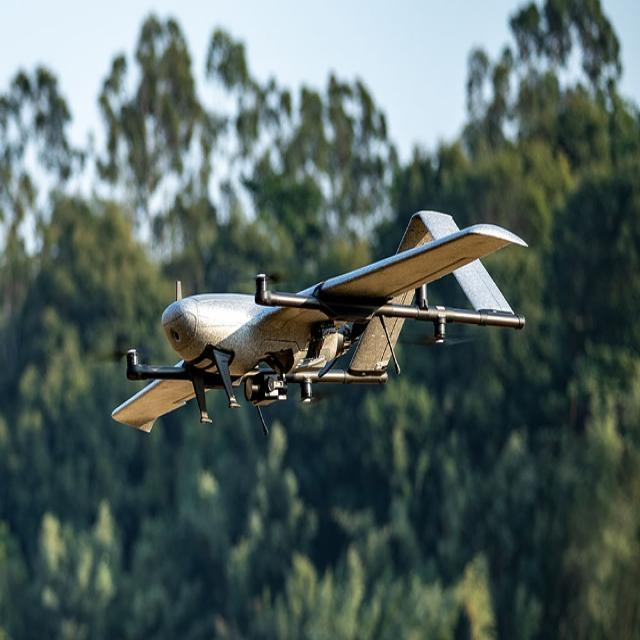iha: (105, 191, 532, 450)
